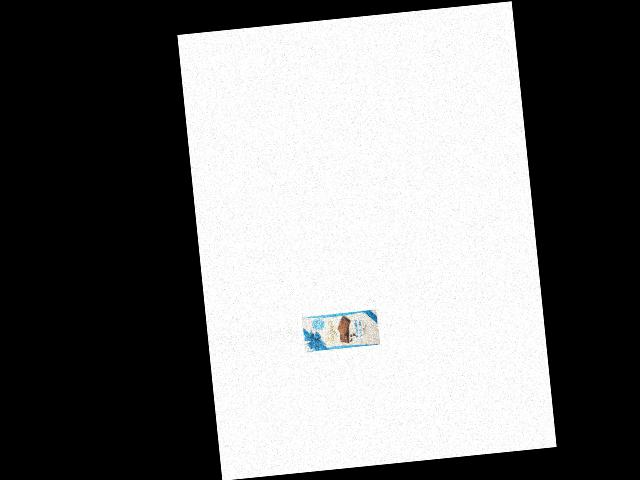chocolate: (300, 306, 382, 357)
